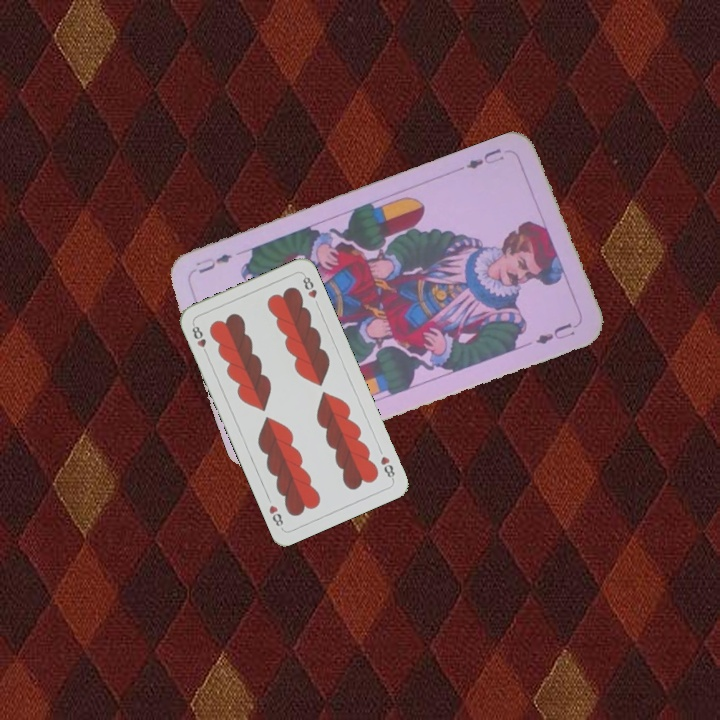EU: (462, 144, 507, 172)
H8: (188, 320, 211, 358), (376, 452, 397, 483)
